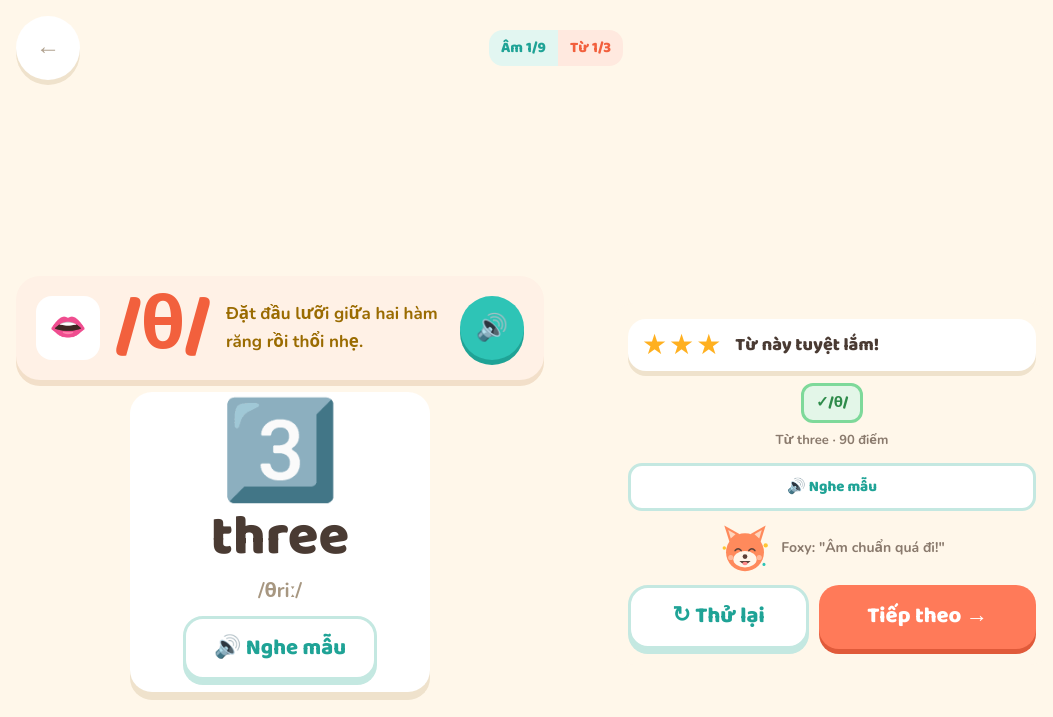
hands on to the next word of the sound
The image size is (1053, 717).
Step 1. Click the link "Tiếp theo →" → click(928, 617), box [819, 585, 1036, 649]
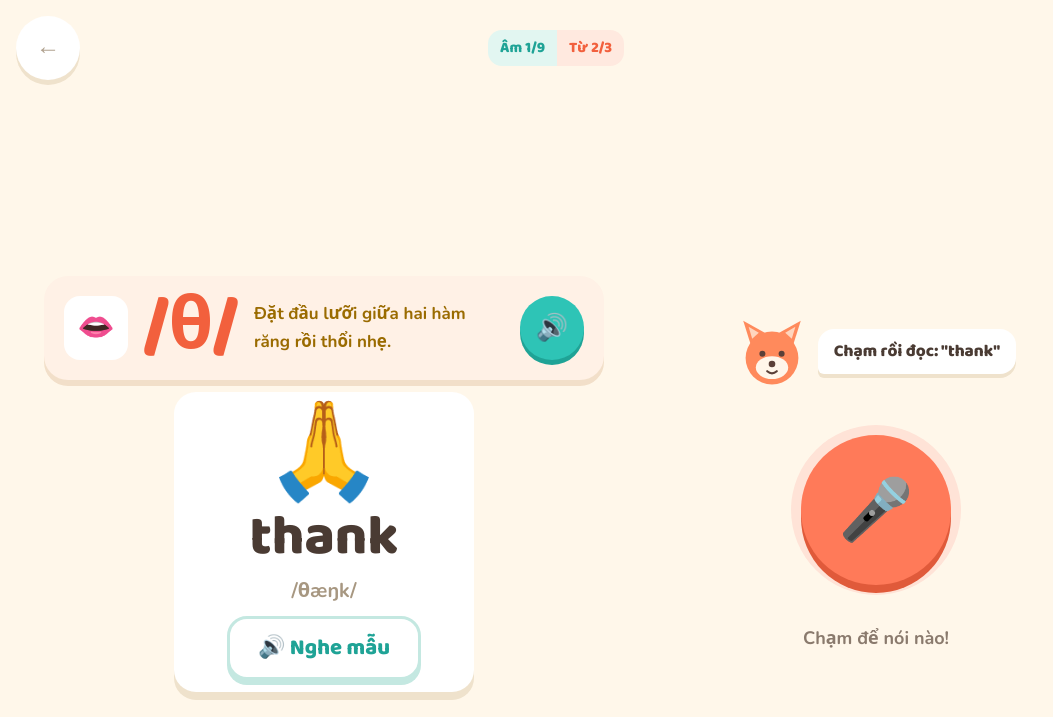
Result: the text "thank" is shown at [249, 510, 399, 566]
Result: the text "Từ 2/3" is shown at [557, 30, 624, 66]
Result: the element with test id "result-card" is gone
